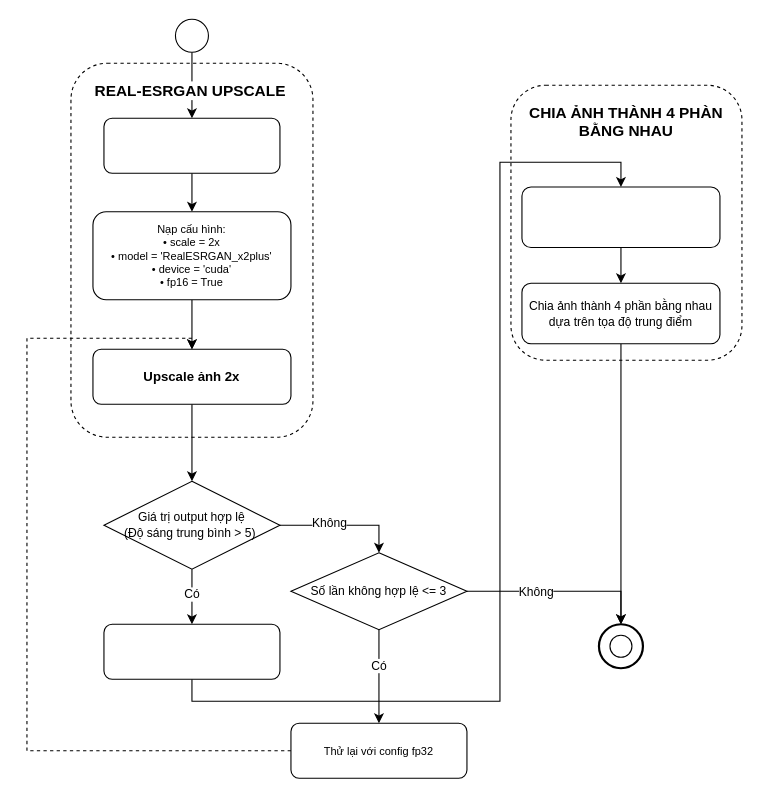
Image size: 761x798. Some labels were removed from this diagram. The shapes that lost their labels are listed below. From the top down, each one's box as (x1, y1, x2, y2) in pixels, then its label:
(103, 117, 280, 173): Đọc ảnh từ đường dẫn (image_path)
(521, 186, 720, 248): Tính tọa độ trung điểm của ảnh theo chiều rộng và cao
(103, 623, 280, 679): Lưu ảnh đã được upscale
